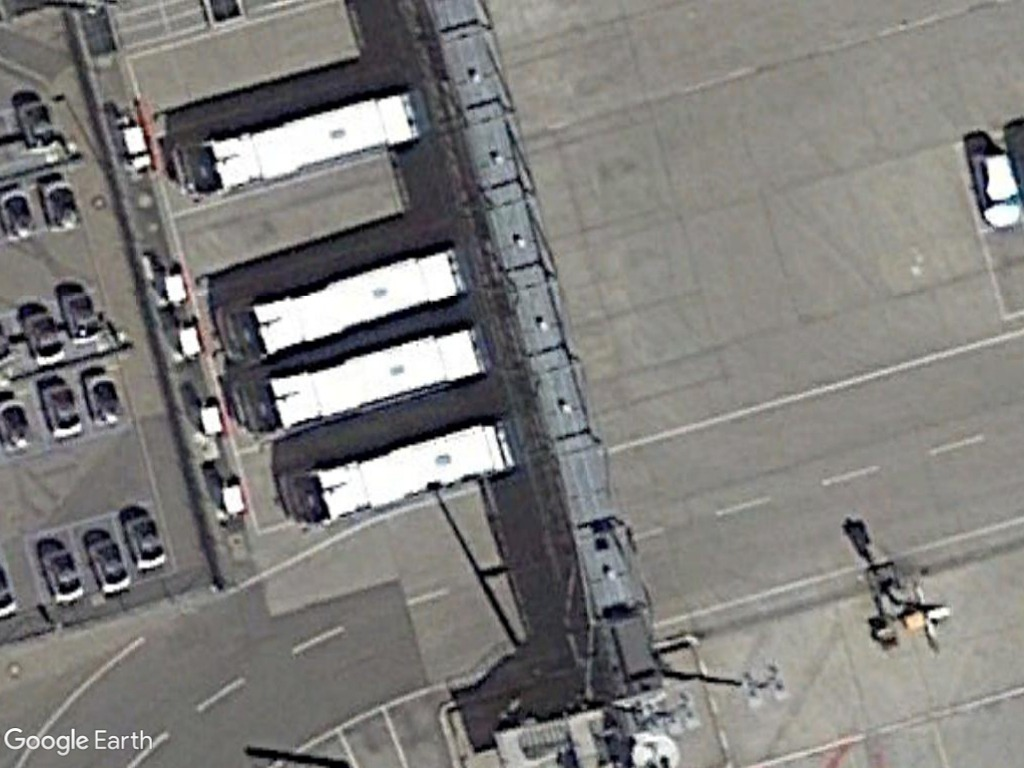bus: (237, 319, 491, 440), (218, 246, 474, 364), (174, 86, 432, 203), (279, 418, 512, 526)
